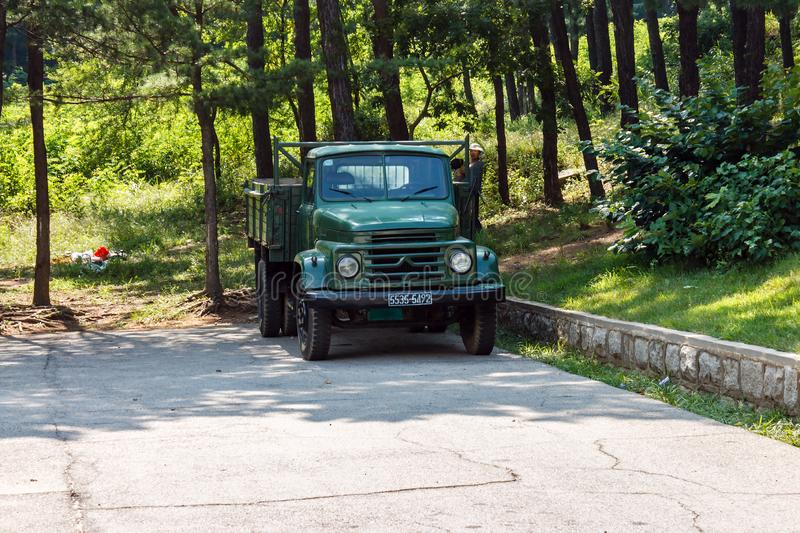camion: (249, 140, 501, 357)
